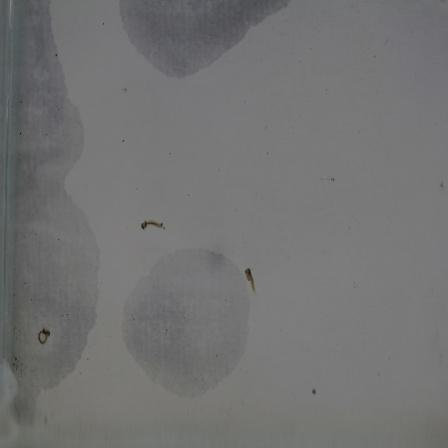Jentik-Nyamuk: (136, 213, 168, 236), (240, 265, 261, 296), (34, 324, 55, 349)
